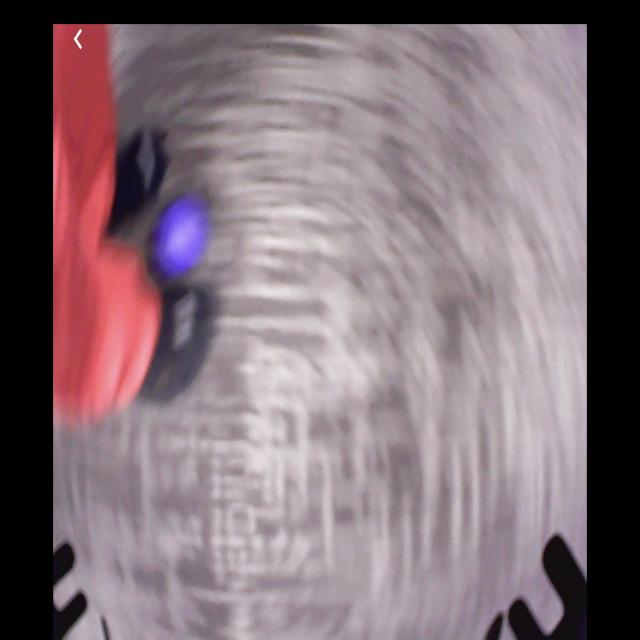ball: (160, 203, 206, 270)
